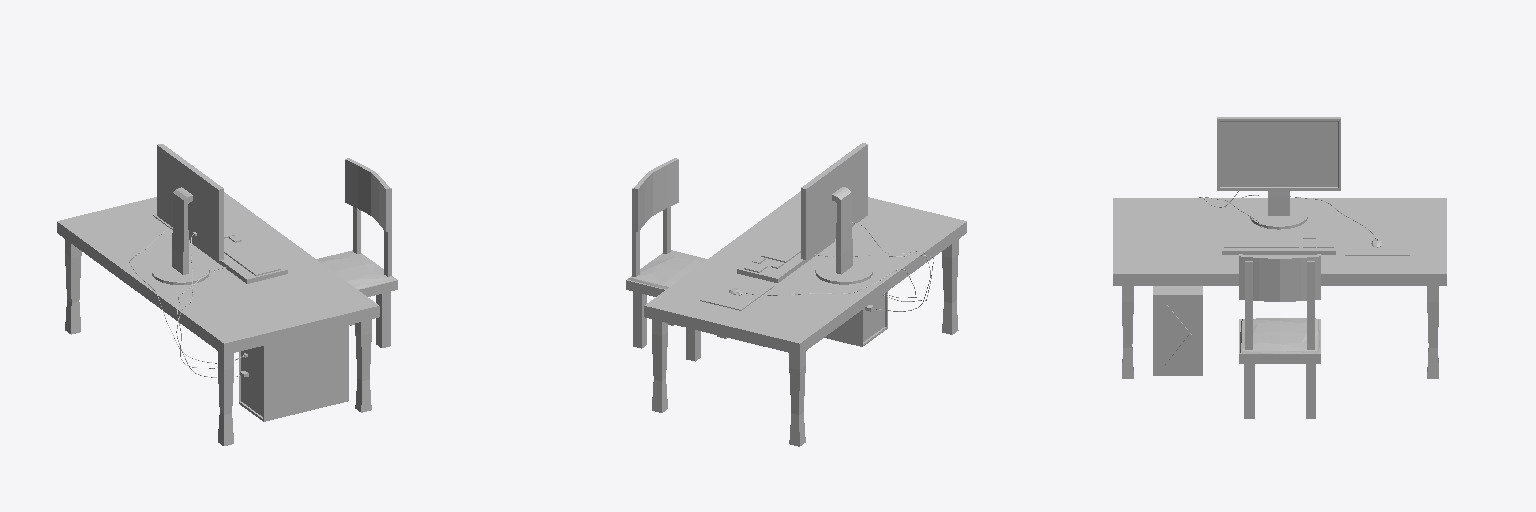
The model's file is Desk.obj.
3 views of the same model, side by side, from view 1: azimuth 30°, elevation 25°; view 2: azimuth 150°, elevation 25°; view 3: azimuth 270°, elevation 25° (orthographic).
Visible parts, largest first — view 1: Cube.029; view 2: Cube.029; view 3: Cube.029.
Boxes of the visible parts, <box> form: Cube.029: <box>57,144,397,445</box>; Cube.029: <box>626,143,966,446</box>; Cube.029: <box>1113,117,1446,418</box>.
Size of the model in its own units: 8.92 by 7.42 by 10.63.